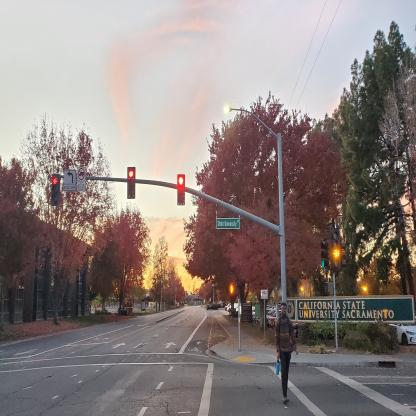left-red: (51, 174, 60, 206)
red: (127, 167, 135, 199), (177, 174, 185, 205)
